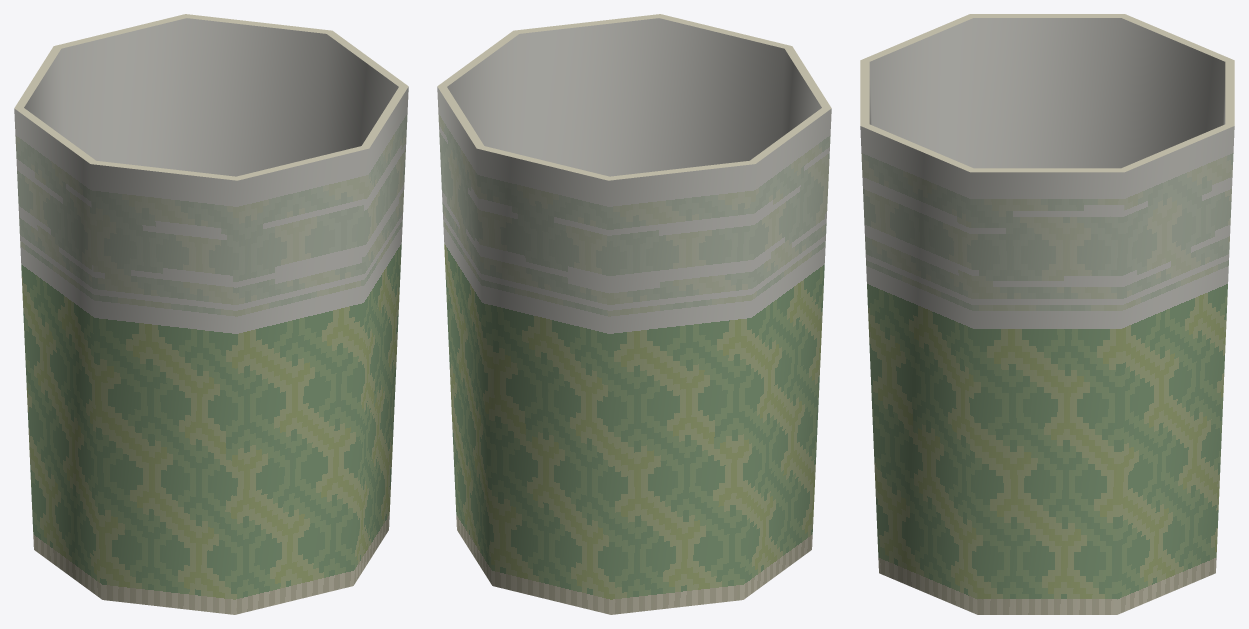
File: 0319_Dustbin.glb
The picture shows the model from 3 angles, left to right: view 1: azimuth 30°, elevation 25°; view 2: azimuth 150°, elevation 25°; view 3: azimuth 270°, elevation 25°; orthographic projection.
Visible parts, largest first — view 1: part_0; view 2: part_0; view 3: part_0.
Boxes of the visible parts, x1,y1,x2,y2 form: part_0: [14, 14, 408, 614]; part_0: [437, 14, 831, 614]; part_0: [860, 14, 1234, 614].
Bounding box in the file's own units: 0.2033 × 0.27 × 0.2033.
Materials: 1 (1 with a texture image).
